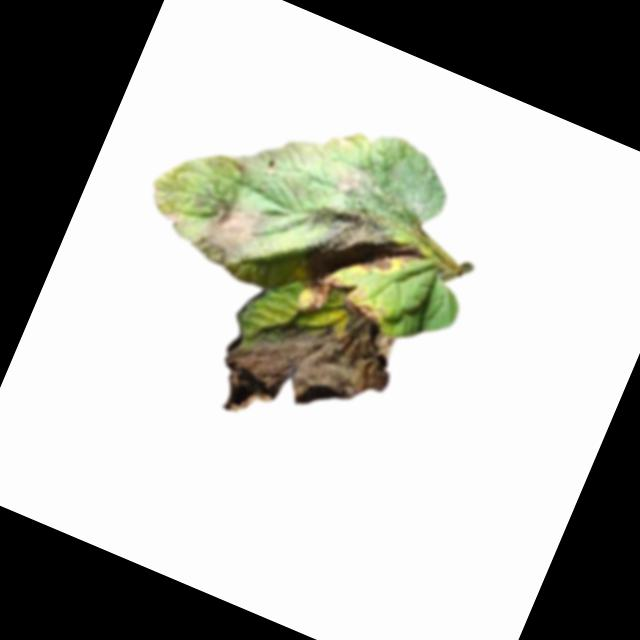Late_blight: (206, 258, 414, 464), (285, 155, 443, 313), (188, 193, 274, 277), (343, 285, 387, 323), (159, 205, 189, 236), (332, 133, 352, 153)
